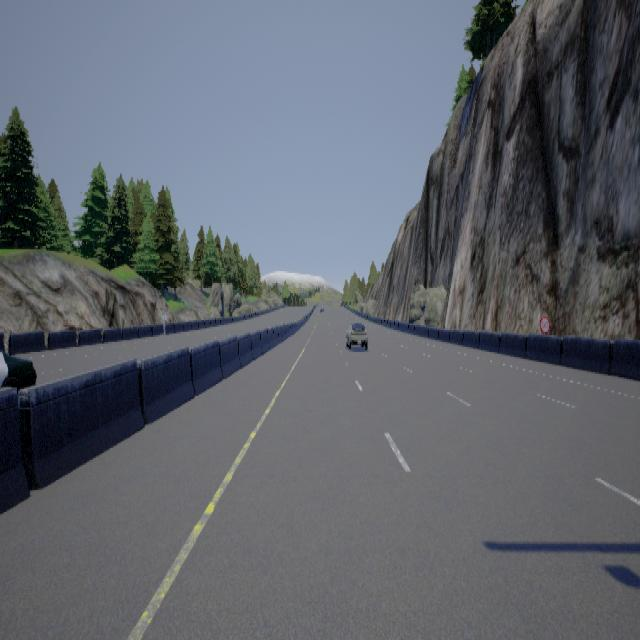traffic_sign: (539, 315, 549, 332)
vehicle: (0, 348, 36, 392), (345, 322, 367, 348)
